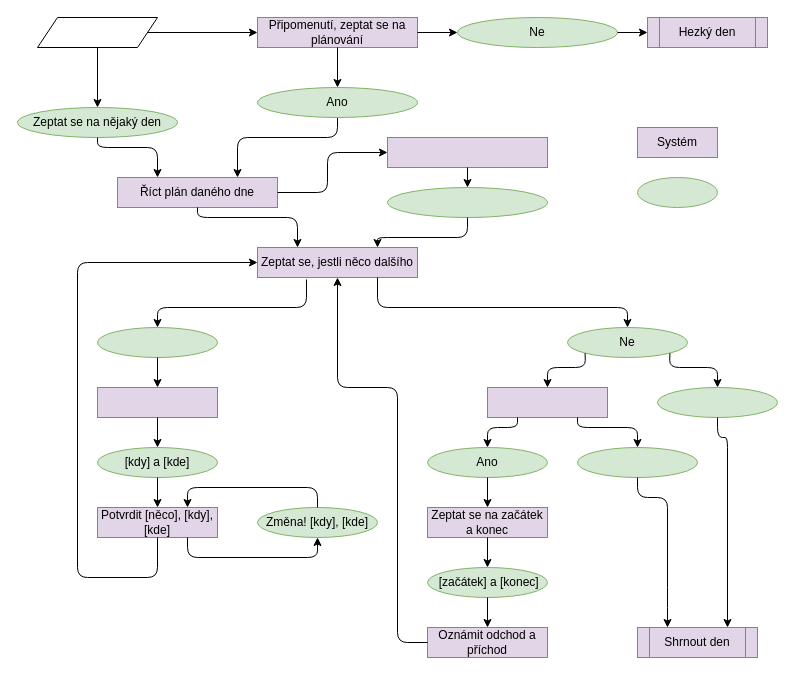
The diagram is 795 pixels wide and 675 high, and some of its shapes have lost their labels. Here are the shapes that lost their labels. From the top down, the centre of each, then its label:
At (97,32): "Začátek".
At (467,152): "Zeptat se na upřesnění".
At (467,202): "Upřesnění".
At (677,192): "Uživatel".
At (157,342): "Ano, [něco]".
At (157,402): "[něco], zeptat se kdy a kde".
At (547,402): "Zeptat se na plánování dopravy".
At (717,402): "Konec".
At (637,462): "Ne, konec".
